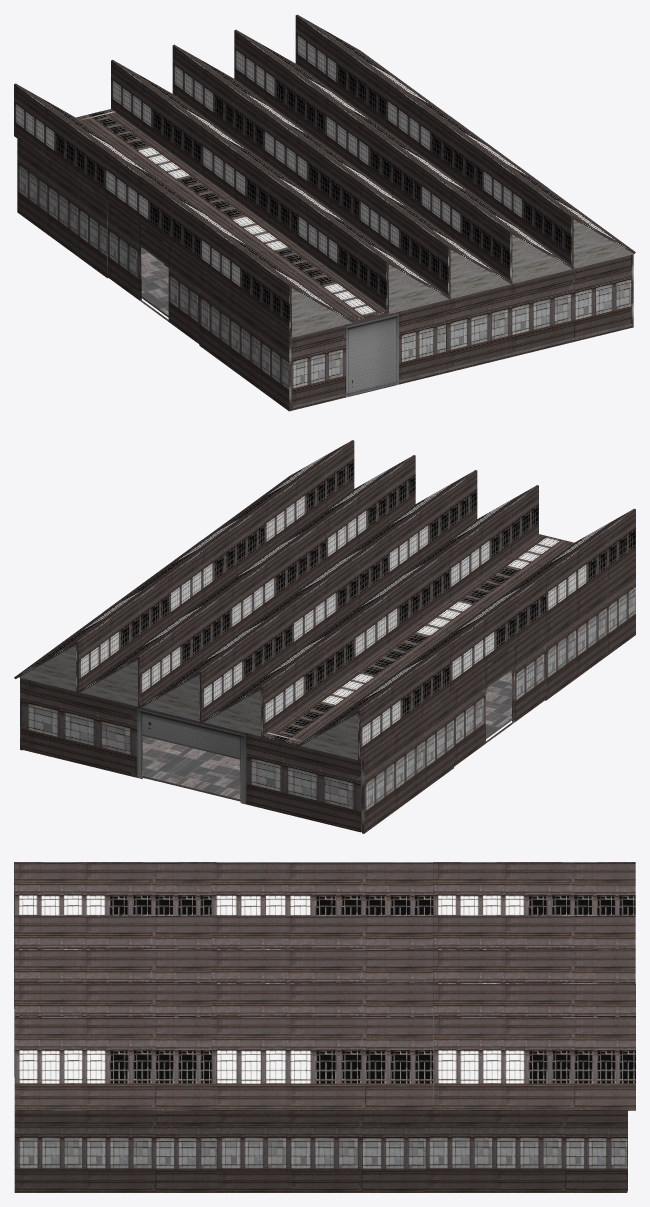
Rendered from Warehouse.glb.
The picture shows the model from 3 angles, top to bottom: view 1: azimuth 30°, elevation 25°; view 2: azimuth 150°, elevation 25°; view 3: azimuth 270°, elevation 25°; orthographic projection. The views are drawn at different scales.
Parts seen in each view (by area): view 1: Factory002_WindowsIndustrial-frontSolid-OpenWindows_Mat_0, Factory002_WindowsIndustrial-frontSolid_Mat_0, Factory002_WindowsIndustrial-frontDoorclosed_Mat_0, Factory002_11 - Default_0, Factory002_WindowsIndustrial-front_Mat_0, Object001_20 - Default_0; view 2: Factory002_WindowsIndustrial-frontSolid-OpenWindows_Mat_0, Factory002_WindowsIndustrial-frontDoorOpen_Mat_0, Factory002_WindowsIndustrial-frontSolid_Mat_0, Factory002_11 - Default_0, Factory002_WindowsIndustrial-front_Mat_0, Object001_20 - Default_0; view 3: Factory002_WindowsIndustrial-frontSolid-OpenWindows_Mat_0, Factory002_WindowsIndustrial-frontSolid_Mat_0.
Boxes of the visible parts, x1,y1,x2,y2 form: Factory002_WindowsIndustrial-frontSolid-OpenWindows_Mat_0: (14,14,635,337); Factory002_WindowsIndustrial-frontSolid_Mat_0: (17,136,633,411); Factory002_WindowsIndustrial-frontDoorclosed_Mat_0: (291,300,445,410); Factory002_11 - Default_0: (290,220,633,337); Factory002_WindowsIndustrial-front_Mat_0: (107,201,199,343); Object001_20 - Default_0: (141,247,632,408); Factory002_WindowsIndustrial-frontSolid-OpenWindows_Mat_0: (14,440,635,762); Factory002_WindowsIndustrial-frontDoorOpen_Mat_0: (20,672,361,832); Factory002_WindowsIndustrial-frontSolid_Mat_0: (20,559,635,833); Factory002_11 - Default_0: (19,645,357,759); Factory002_WindowsIndustrial-front_Mat_0: (453,623,545,766); Object001_20 - Default_0: (142,671,511,801); Factory002_WindowsIndustrial-frontSolid-OpenWindows_Mat_0: (14,862,635,1110); Factory002_WindowsIndustrial-frontSolid_Mat_0: (14,1106,627,1192).
Size of the model in its own units: 22.32 by 7.75 by 30.77.
7 materials, 7 textured.
